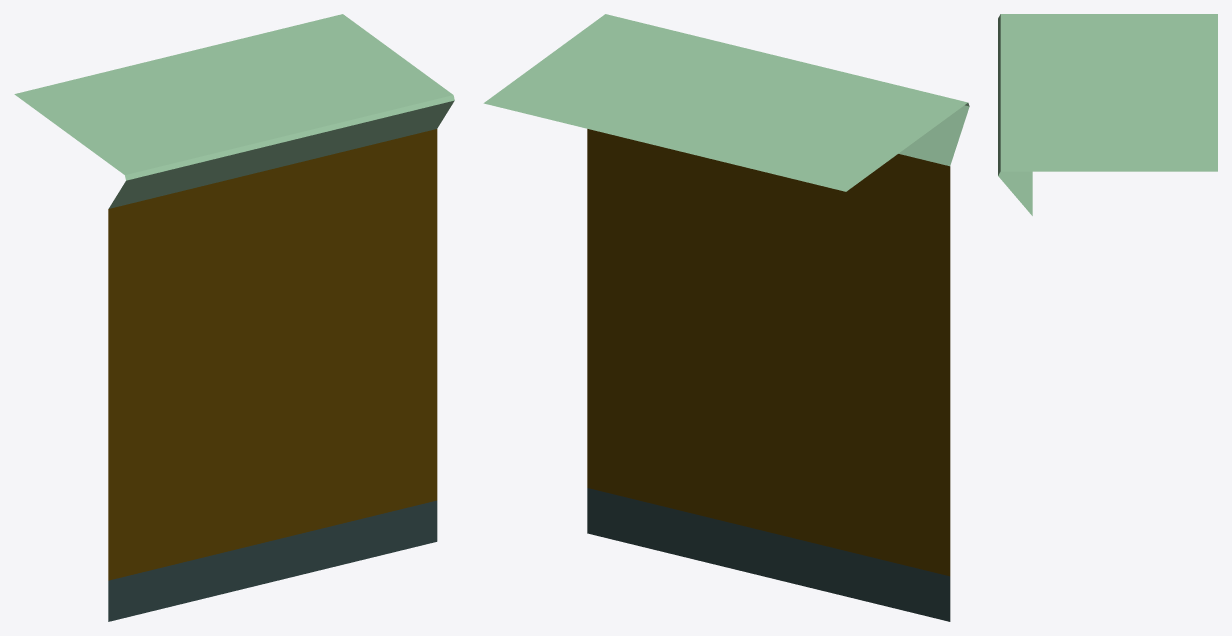
The model's file is Islaplano.fbx.
3 views of the same model, side by side, from view 1: azimuth 30°, elevation 25°; view 2: azimuth 150°, elevation 25°; view 3: azimuth 270°, elevation 25° (orthographic). The views are drawn at different scales.
Parts seen in each view (by area): view 1: Isla_plano; view 2: Isla_plano; view 3: Isla_plano.
Boxes of the visible parts, box(x1,y1,x2,y2) form: Isla_plano: box(14, 14, 454, 621); Isla_plano: box(483, 14, 969, 621); Isla_plano: box(998, 14, 1217, 215).
Size of the model in its own units: 75 by 100 by 44.23.
